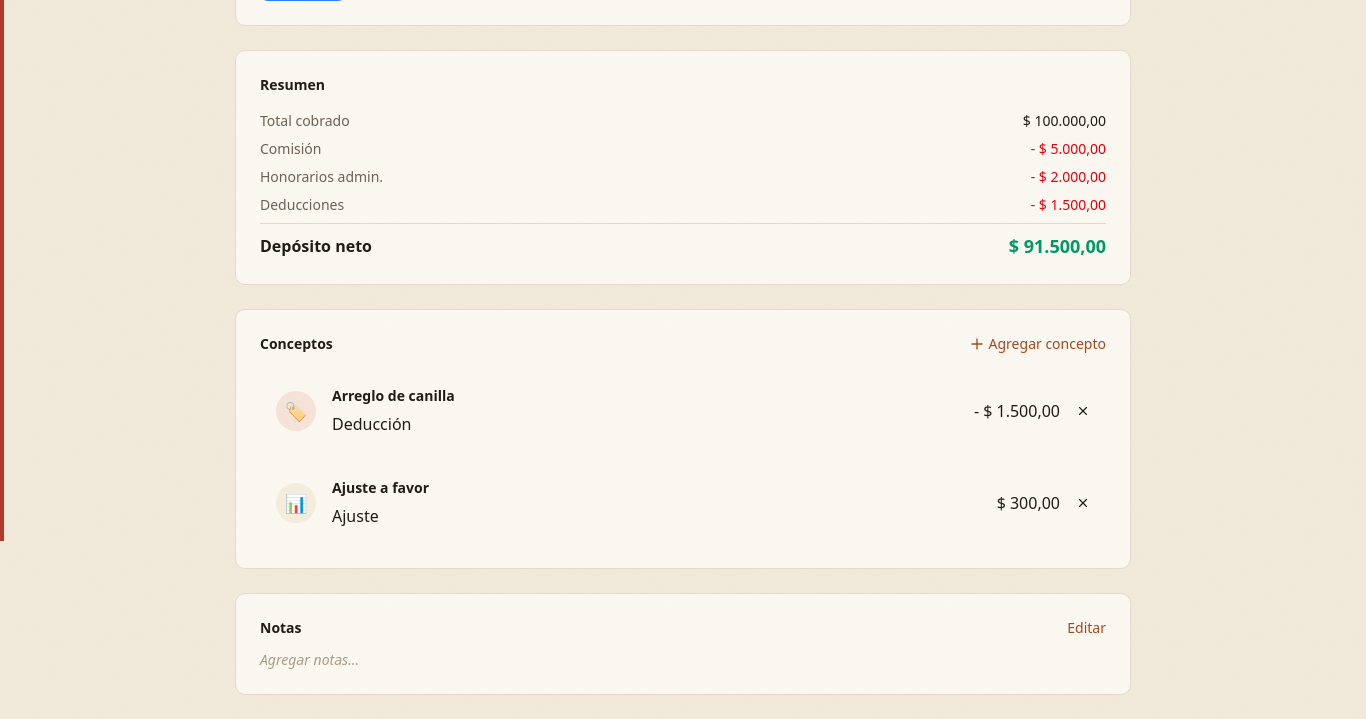
RenditionDetail › muestra error al fallar el guardado de notas
(page scrolled)
Click the button "Editar". click: (1087, 628)
box: [1067,618,1106,638]
(page scrolled)
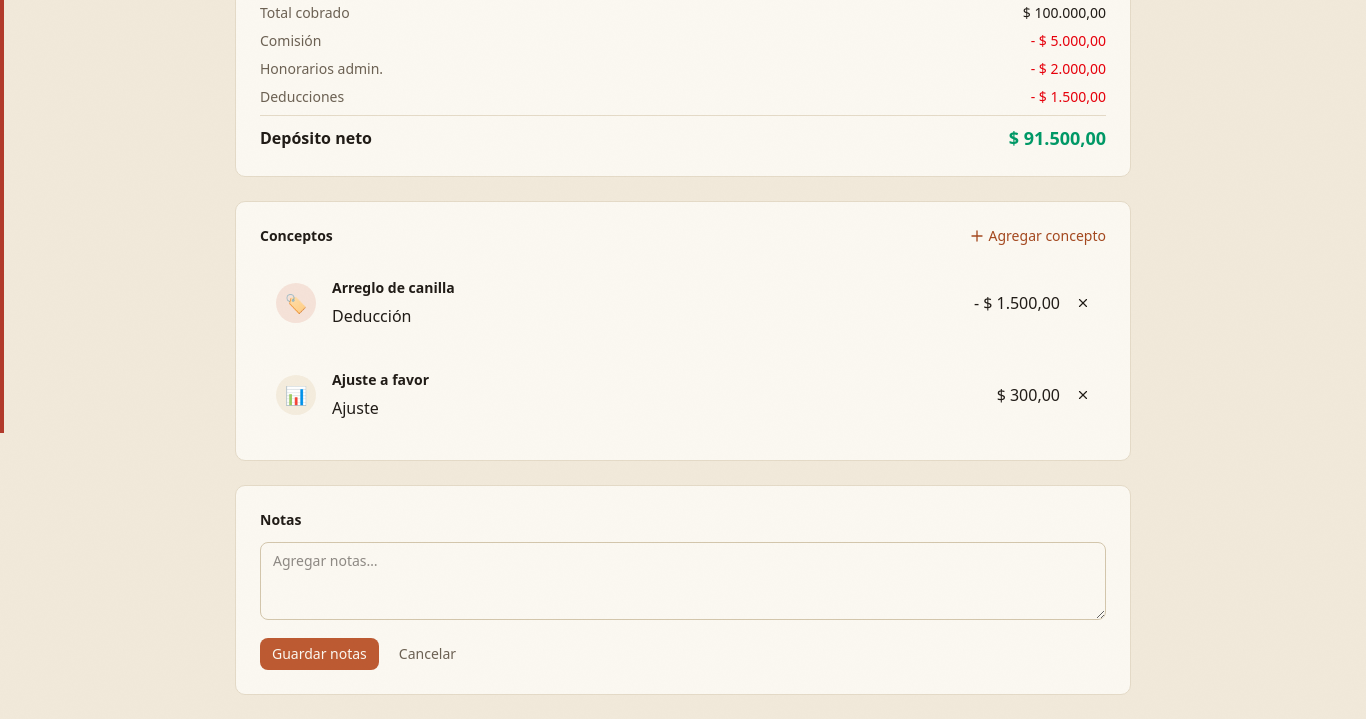
Click the button "Guardar notas". click: (319, 654)
box: [260,638,379,670]
(page scrolled)
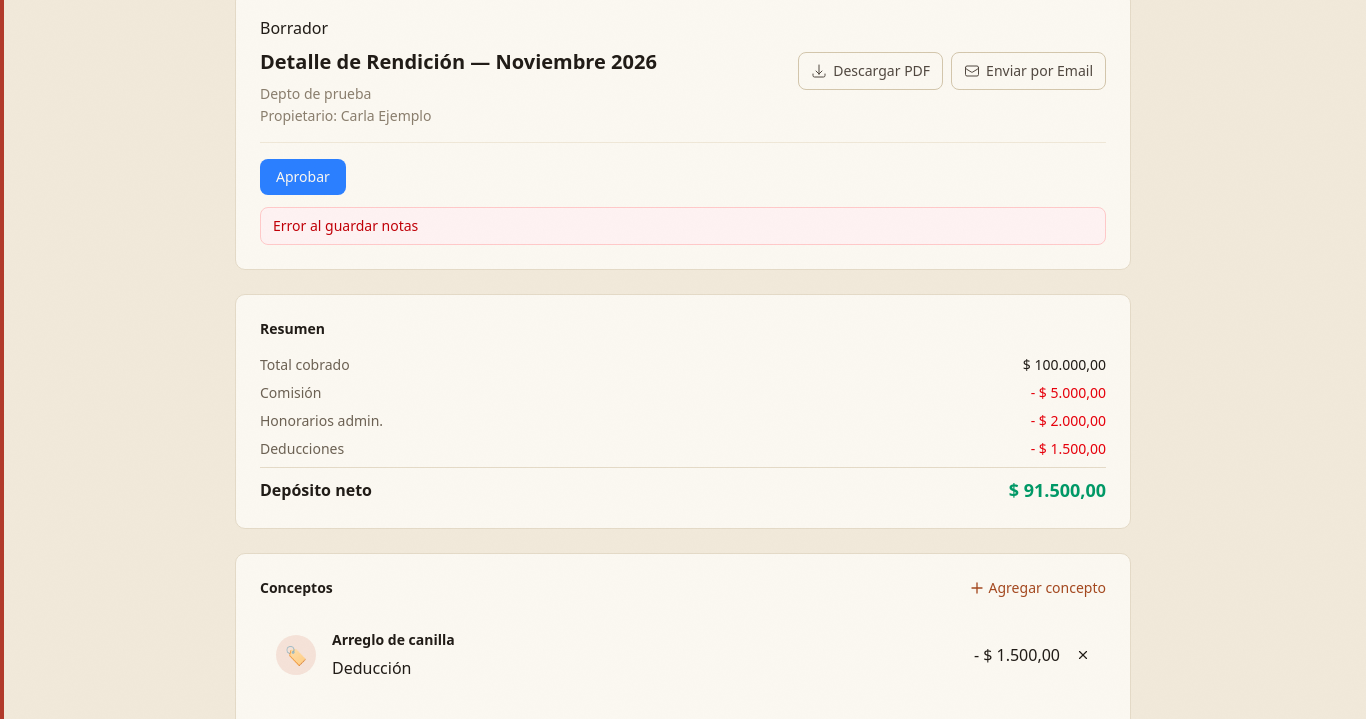
Result: the text "Error al guardar notas" is shown at [260,207,1106,245]
